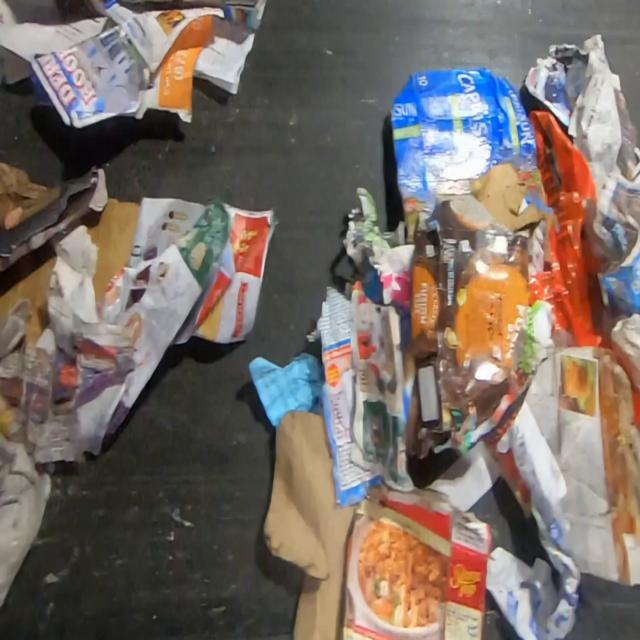cardboard: (402, 195, 546, 462), (388, 65, 560, 244), (338, 484, 494, 640), (261, 407, 358, 640), (82, 196, 142, 304), (0, 241, 57, 343), (0, 162, 63, 232)
soft_plastic: (528, 110, 613, 350)
